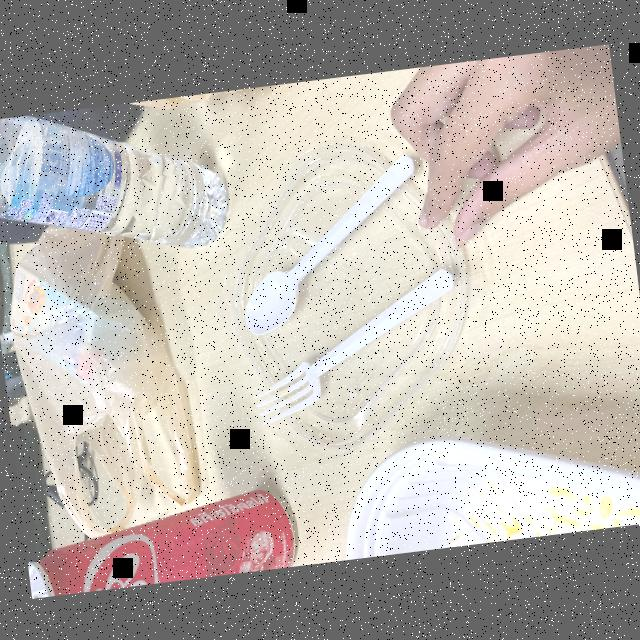plastic_cultery: (218, 154, 441, 344), (238, 258, 474, 428)
